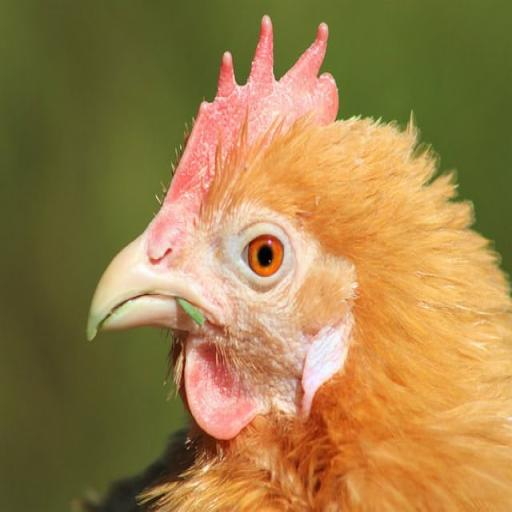healthy: (146, 10, 386, 423)
